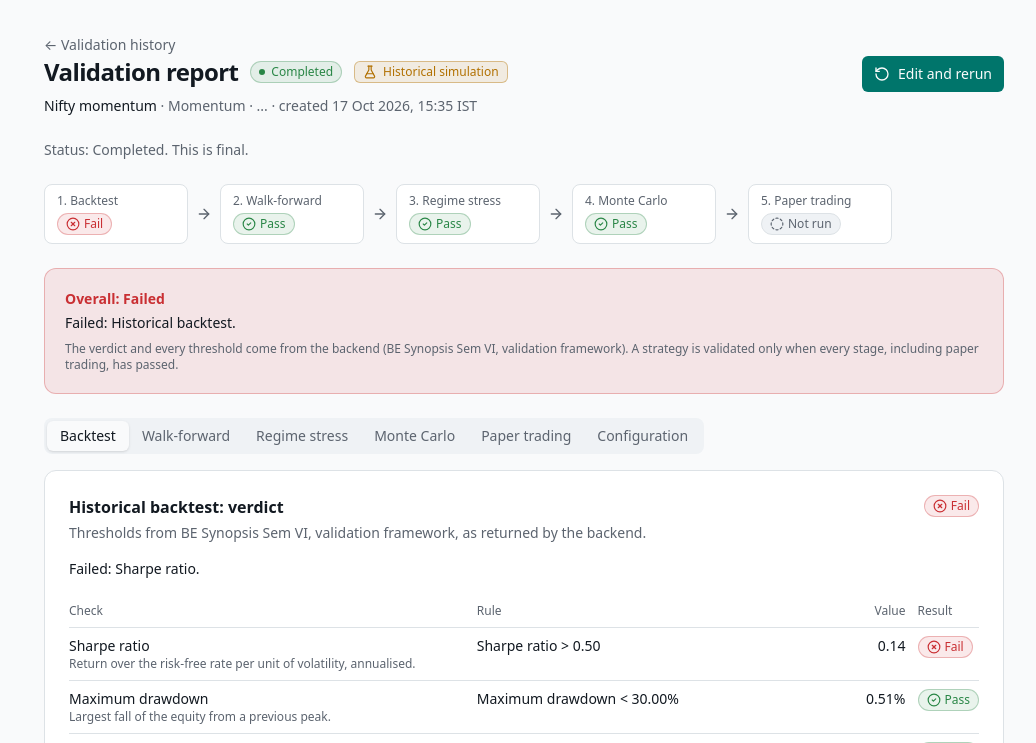
it: ValidationReportPage › configuration shows what makes the run reproducible
Press the mouse on the tab "Configuration" at (643,436), box x1=584 y1=421 x2=701 y2=451
(page scrolled)
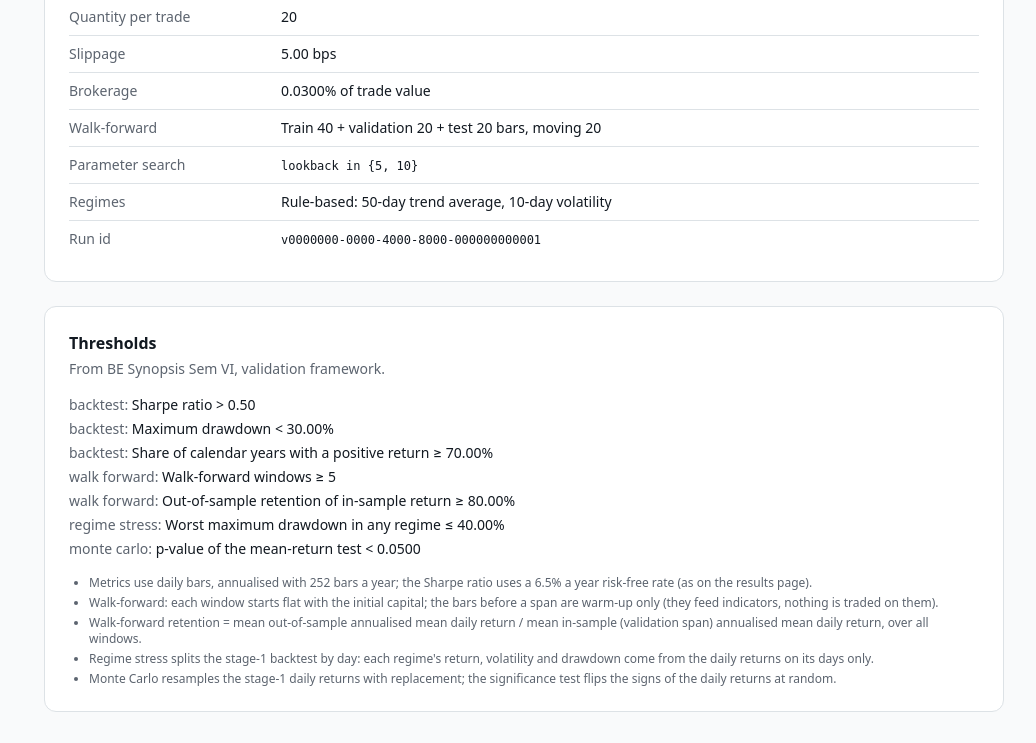
Result: the element "Configuration" shows "Train 40 + validation 20 + test 20 bars, moving 20" at x1=281 y1=118 x2=601 y2=137
Result: the element "Thresholds" shows "Sharpe ratio > 0.50" at x1=132 y1=395 x2=256 y2=414
